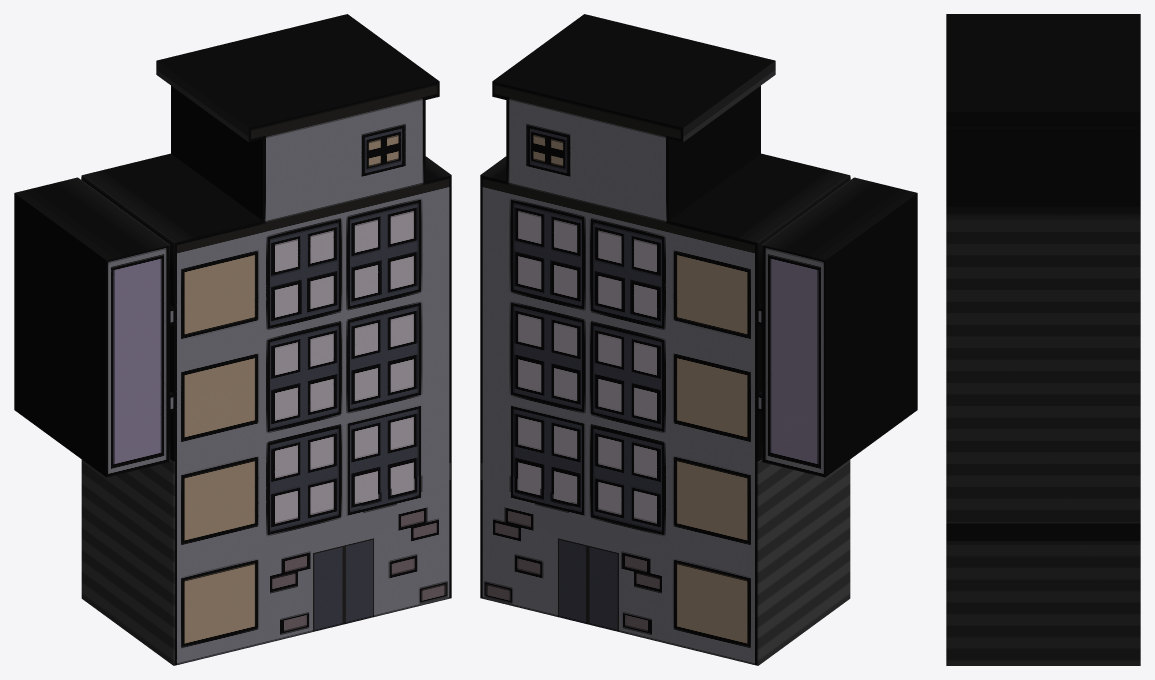
The model's file is building1.fbx.
3 renders of one model, left to right at view 1: azimuth 30°, elevation 25°; view 2: azimuth 150°, elevation 25°; view 3: azimuth 270°, elevation 25°, orthographic. The views are drawn at different scales.
Parts seen in each view (by area): view 1: Building1; view 2: Building1; view 3: Building1.
Part boxes in pixels (<box>): Building1: <box>14,14,451,665</box>; Building1: <box>480,14,917,665</box>; Building1: <box>946,14,1140,665</box>.
Size of the model in its own units: 216 by 311 by 100.
